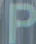Parking: (7, 0, 35, 41)
